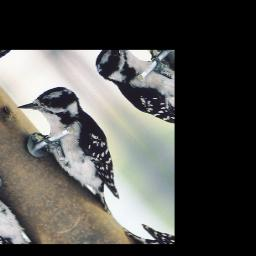Woodpecker: (8, 76, 156, 221)
